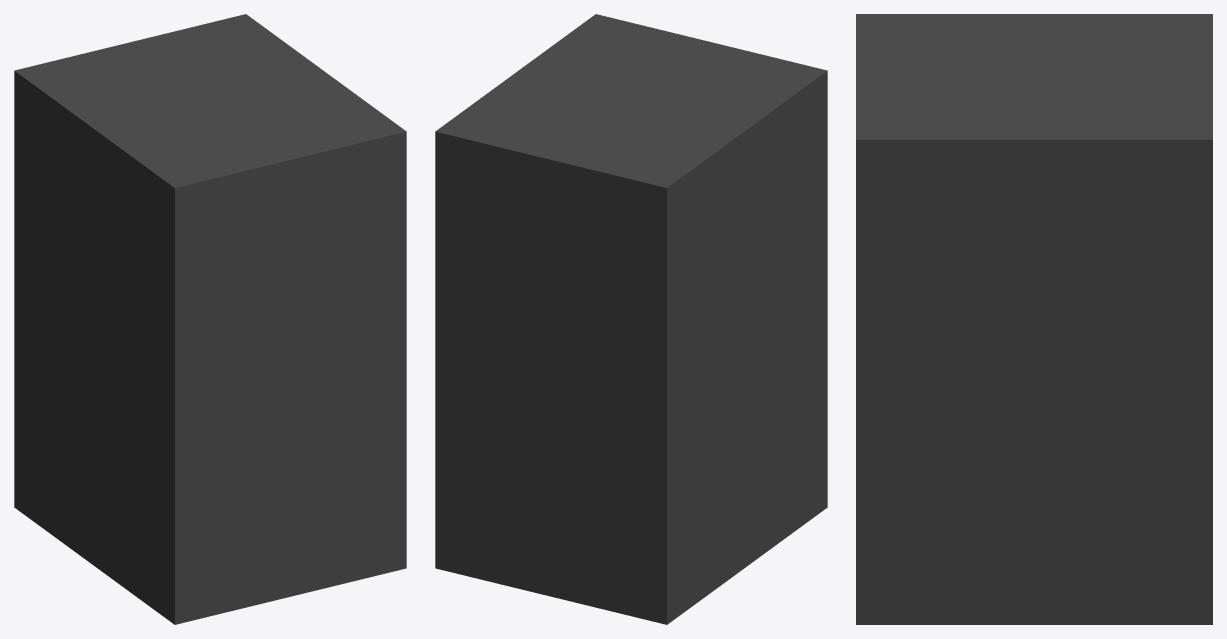
Rendered from panda-0.obj.
3 views of the same model, side by side, from view 1: azimuth 30°, elevation 25°; view 2: azimuth 150°, elevation 25°; view 3: azimuth 270°, elevation 25° (orthographic). The views are drawn at different scales.
Size of the model in its own units: 0.5 by 0.9 by 0.6.
